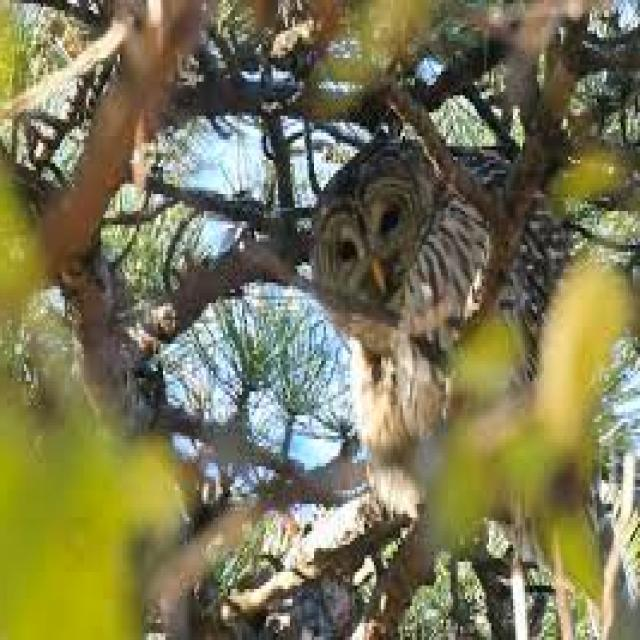owl: (314, 85, 573, 460)
